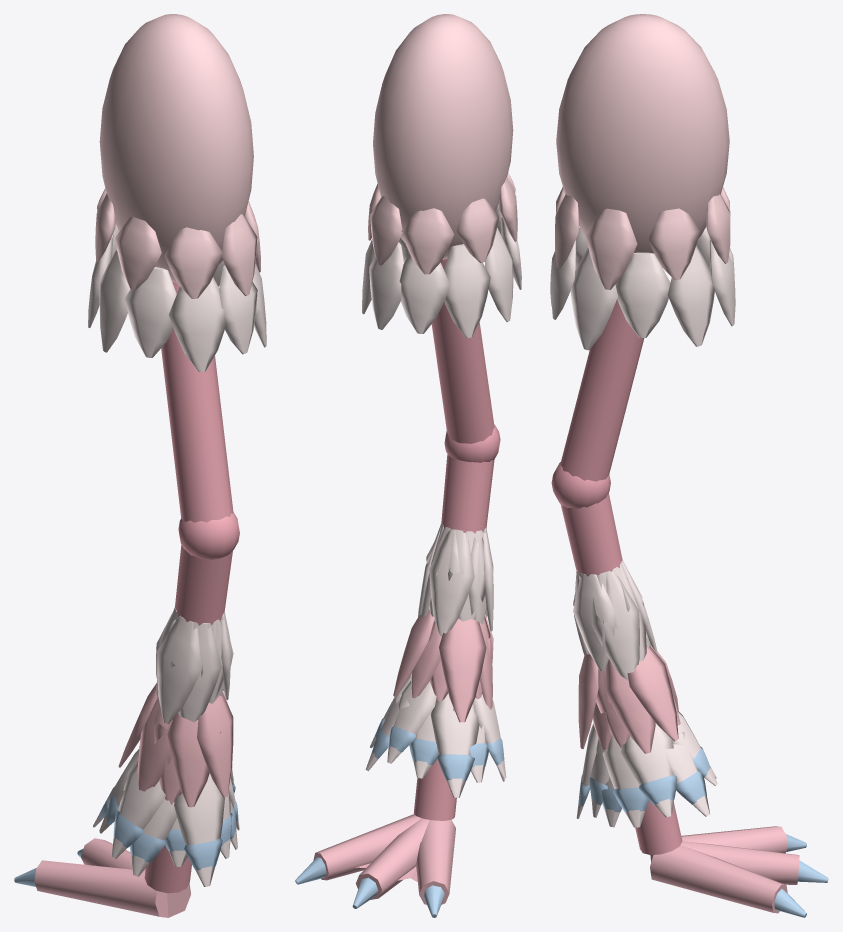
Rendered from FlamingoLegR.glb.
3 renders of one model, left to right at view 1: azimuth 30°, elevation 25°; view 2: azimuth 150°, elevation 25°; view 3: azimuth 270°, elevation 25°, orthographic. The views are drawn at different scales.
Parts seen in each view (by area): view 1: FlamingoLegR__Cream, FlamingoLegR__CreamWhite, FlamingoLegR__LegPink, FlamingoLegR__PinkPale, FlamingoLegR__Foot, FlamingoLegR__PaleBlue; view 2: FlamingoLegR__Cream, FlamingoLegR__CreamWhite, FlamingoLegR__LegPink, FlamingoLegR__Foot, FlamingoLegR__PinkPale, FlamingoLegR__PaleBlue, FlamingoLegR__Nail; view 3: FlamingoLegR__Cream, FlamingoLegR__CreamWhite, FlamingoLegR__LegPink, FlamingoLegR__Foot, FlamingoLegR__PinkPale, FlamingoLegR__PaleBlue, FlamingoLegR__Nail.
Part boxes in pixels (x1,y1,x2,y2): FlamingoLegR__Cream: [95, 14, 260, 298]; FlamingoLegR__CreamWhite: [88, 223, 266, 886]; FlamingoLegR__LegPink: [144, 282, 239, 893]; FlamingoLegR__PinkPale: [118, 683, 233, 807]; FlamingoLegR__Foot: [34, 838, 190, 917]; FlamingoLegR__PaleBlue: [99, 784, 238, 870]; FlamingoLegR__Cream: [368, 14, 517, 274]; FlamingoLegR__CreamWhite: [362, 204, 521, 797]; FlamingoLegR__LegPink: [414, 259, 500, 820]; FlamingoLegR__Foot: [313, 814, 455, 904]; FlamingoLegR__PinkPale: [393, 609, 493, 722]; FlamingoLegR__PaleBlue: [372, 717, 504, 781]; FlamingoLegR__Nail: [295, 857, 444, 917]; FlamingoLegR__Cream: [555, 14, 730, 289]; FlamingoLegR__CreamWhite: [550, 227, 735, 827]; FlamingoLegR__LegPink: [551, 299, 682, 854]; FlamingoLegR__Foot: [650, 826, 799, 913]; FlamingoLegR__PinkPale: [578, 645, 680, 753]; FlamingoLegR__PaleBlue: [578, 746, 710, 812]; FlamingoLegR__Nail: [774, 834, 828, 917].
Size of the model in its own units: 0.7511 by 4.19 by 1.22.
